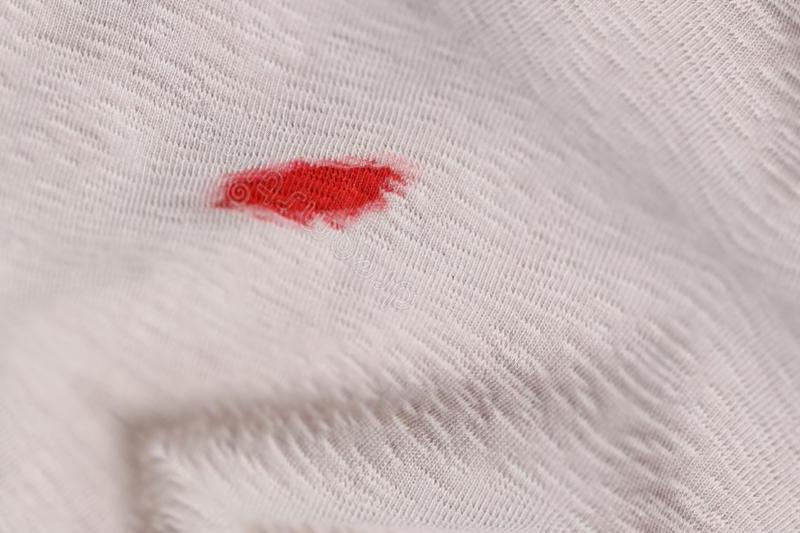stain: (212, 153, 421, 234)
